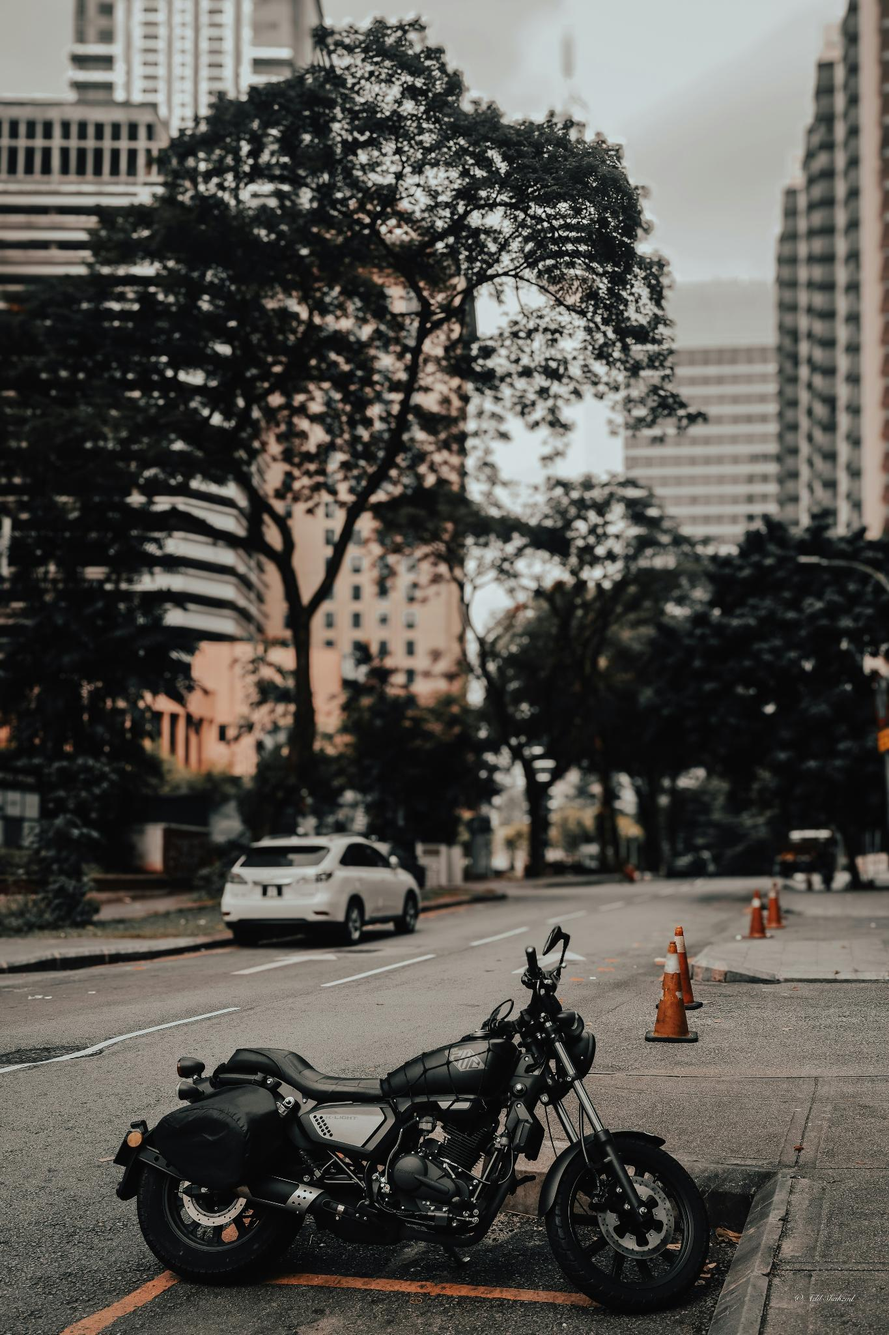car: (225, 833, 427, 942)
